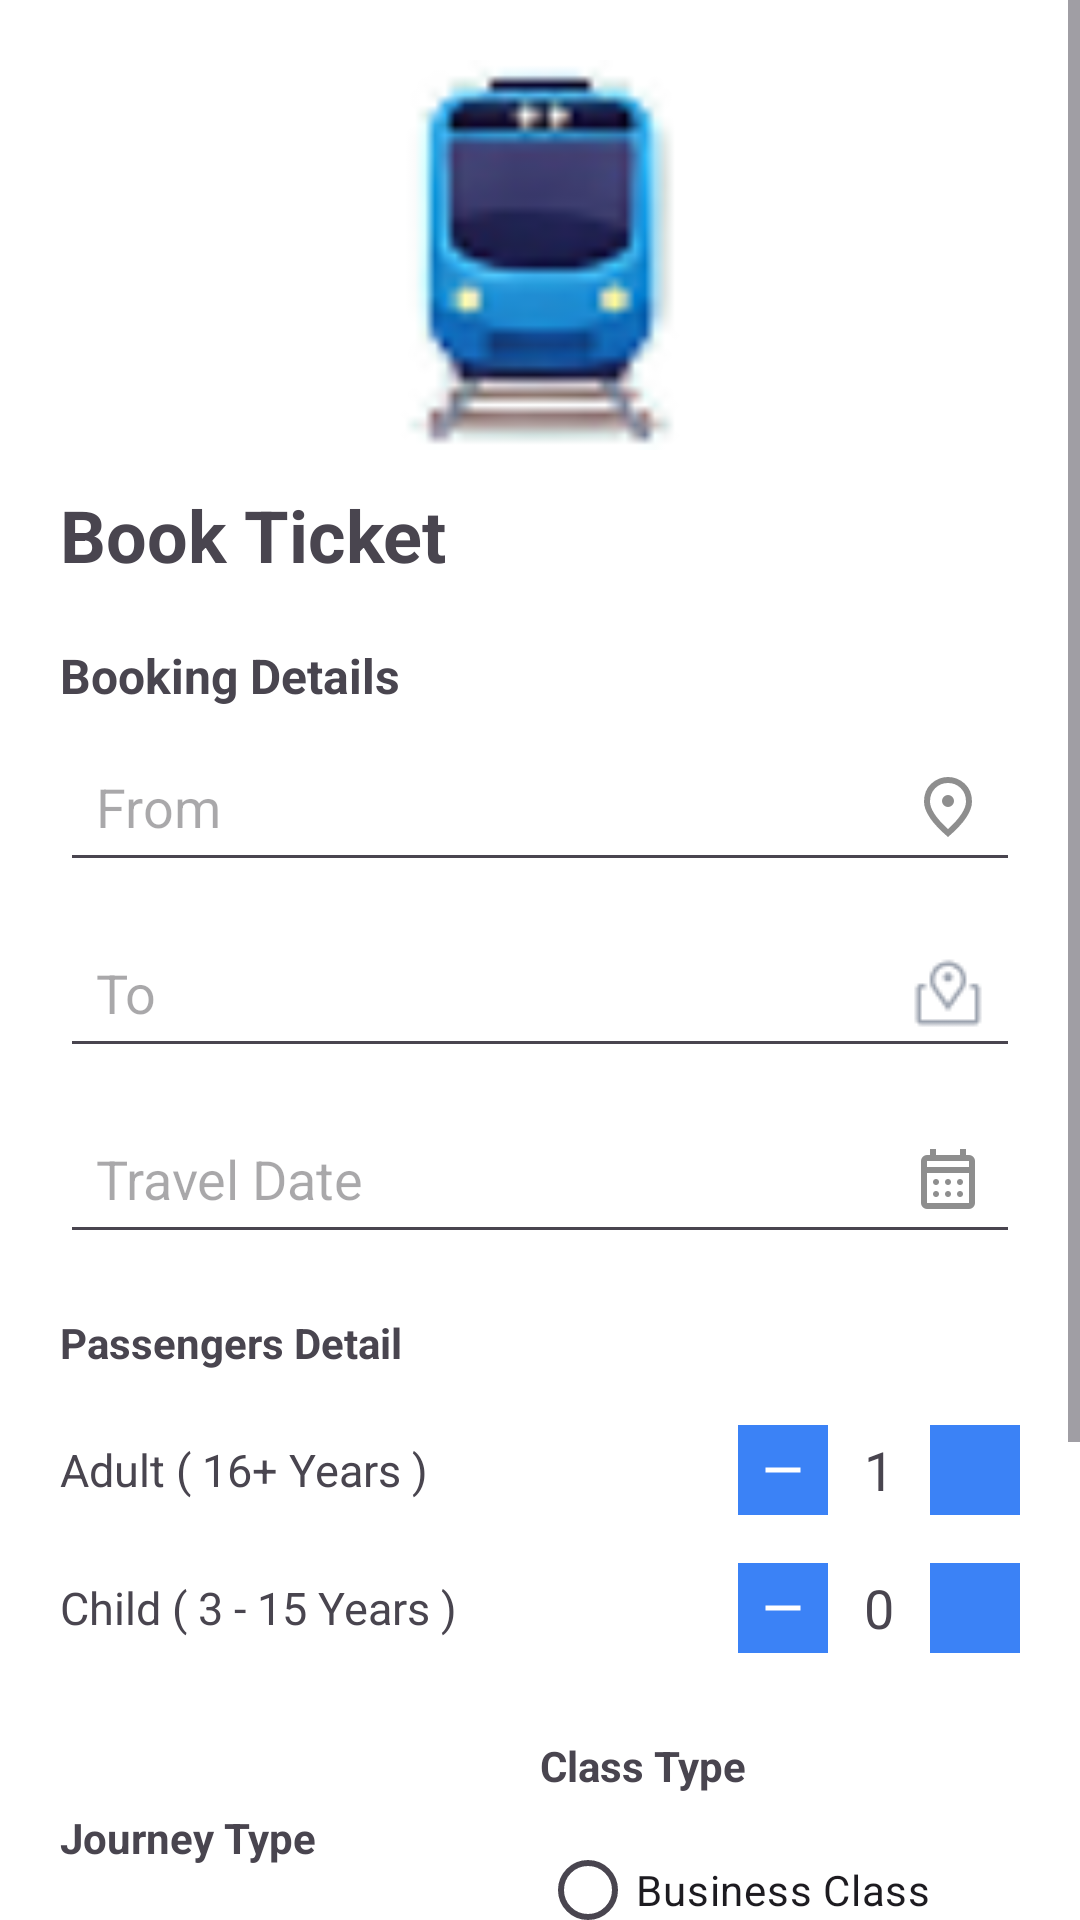

Named icons in this screenshot (1080*1920) and their bounding boxes, (x1, y1, x2, y2):
remove: (738, 1425, 828, 1515), (738, 1563, 828, 1653)
